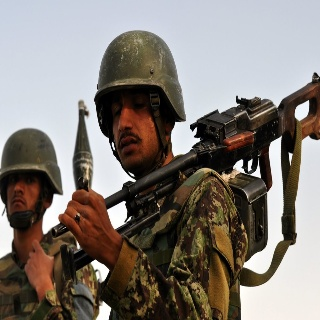rifle: (49, 74, 320, 239)
